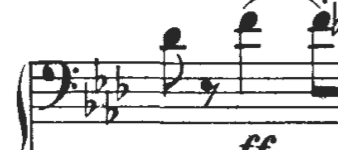bass_clef: (36, 54, 82, 112)
flat: (111, 60, 134, 103), (78, 81, 101, 121), (91, 54, 111, 96), (102, 88, 122, 128)
